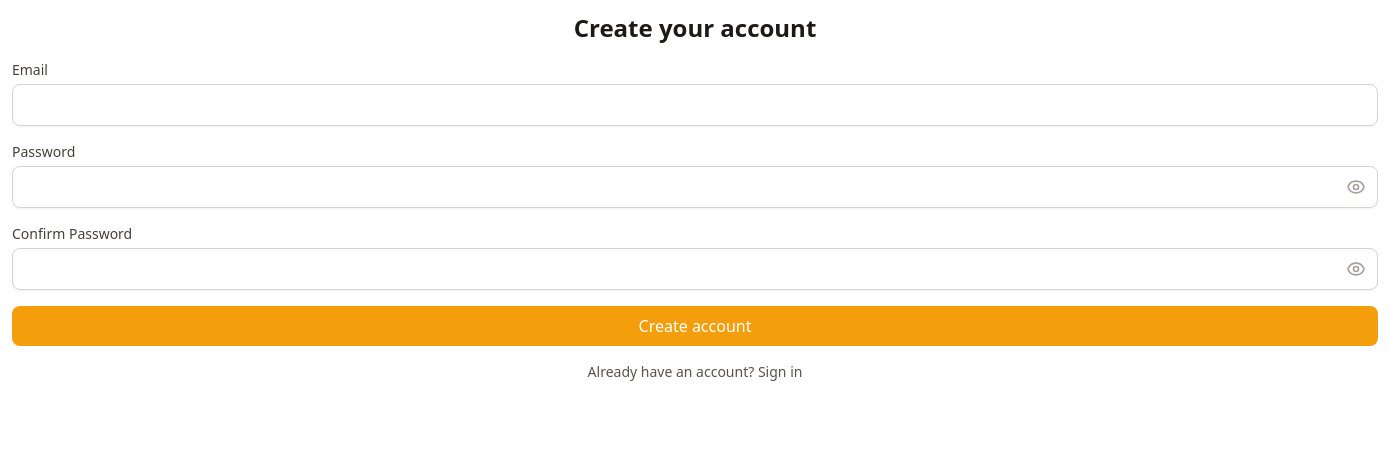
it: RegisterForm › displays API error message on registration failure
Type "taken@example.com" into the field labelled "Email" at (695, 105), box [12, 84, 1378, 126]
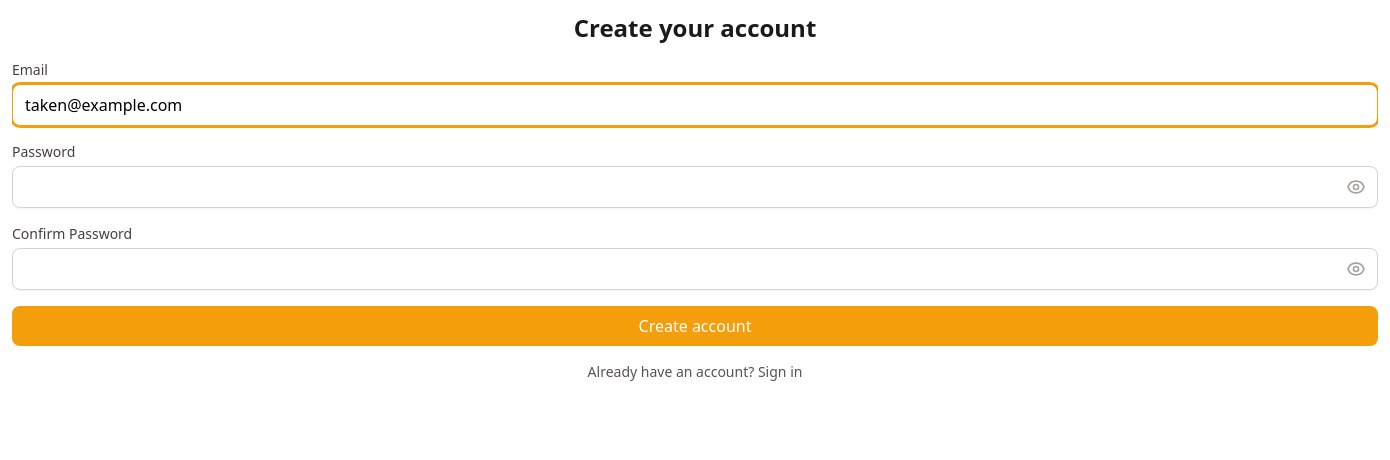
Type "ValidPass1" into the password field labelled "Password" at (695, 187), box [12, 166, 1378, 208]
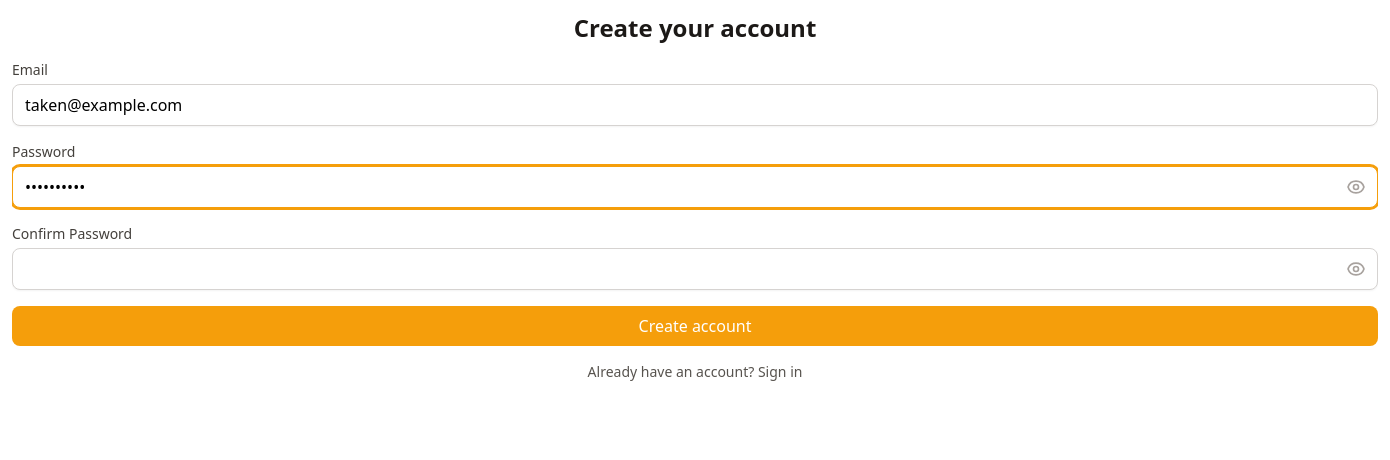
Type "ValidPass1" into the password field labelled "Confirm Password" at (695, 269), box [12, 248, 1378, 290]
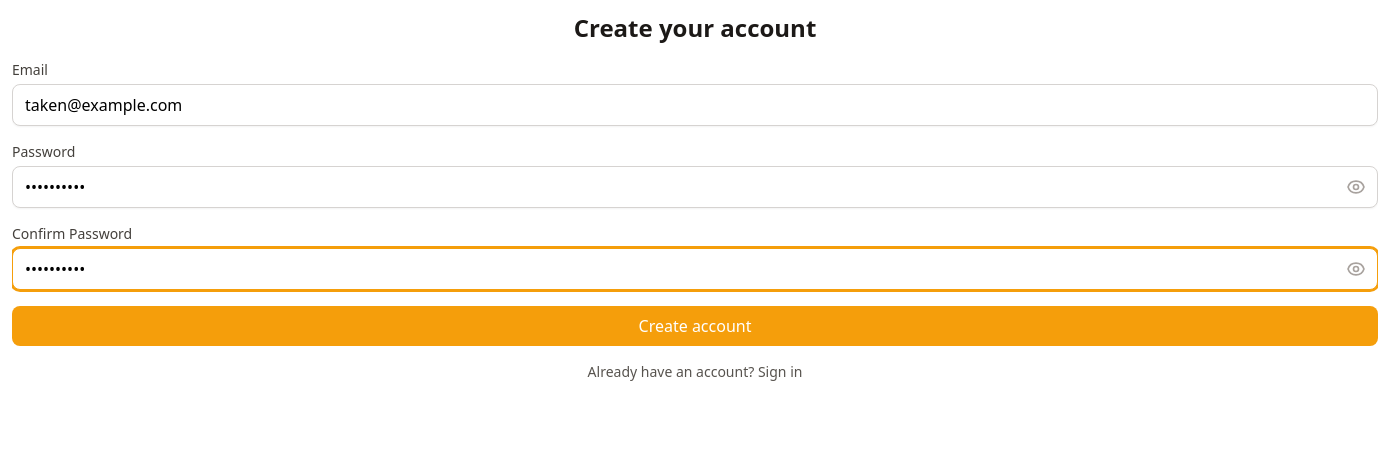
Click the button "Create account" at (695, 326), box [12, 306, 1378, 346]
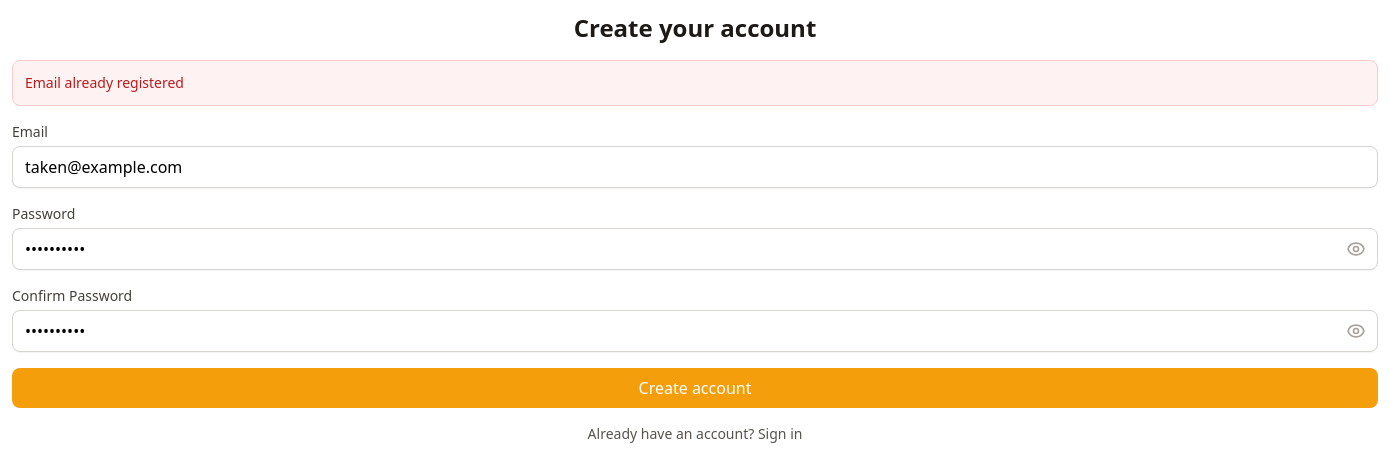
Expected: the text "Email already registered" is shown, [12, 60, 1378, 106]
